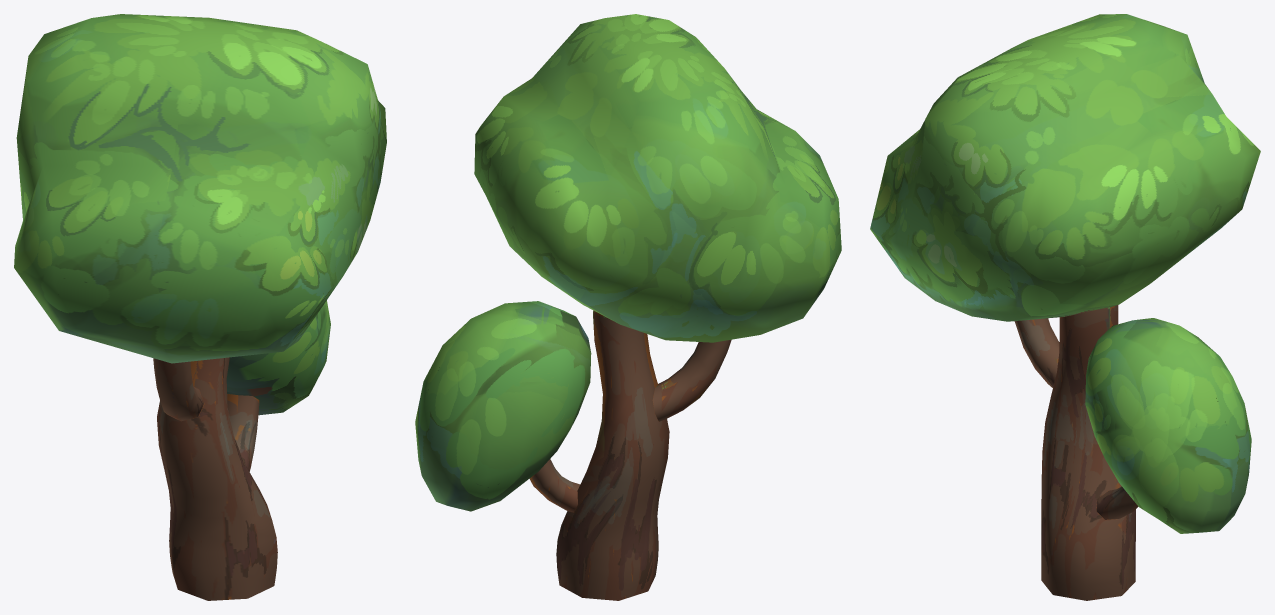
File: TreeL_Textured.fbx
3 views of the same model, side by side, from view 1: azimuth 30°, elevation 25°; view 2: azimuth 150°, elevation 25°; view 3: azimuth 270°, elevation 25° (orthographic). The views are drawn at different scales.
Visible parts, largest first — view 1: Tree.001; view 2: Tree.001; view 3: Tree.001.
Boxes of the visible parts, <box> form: Tree.001: <box>14,14,386,600</box>; Tree.001: <box>415,14,841,600</box>; Tree.001: <box>870,14,1260,600</box>.
Bounding box in the file's own units: 222 × 325 × 221.
1 material, 1 textured.
